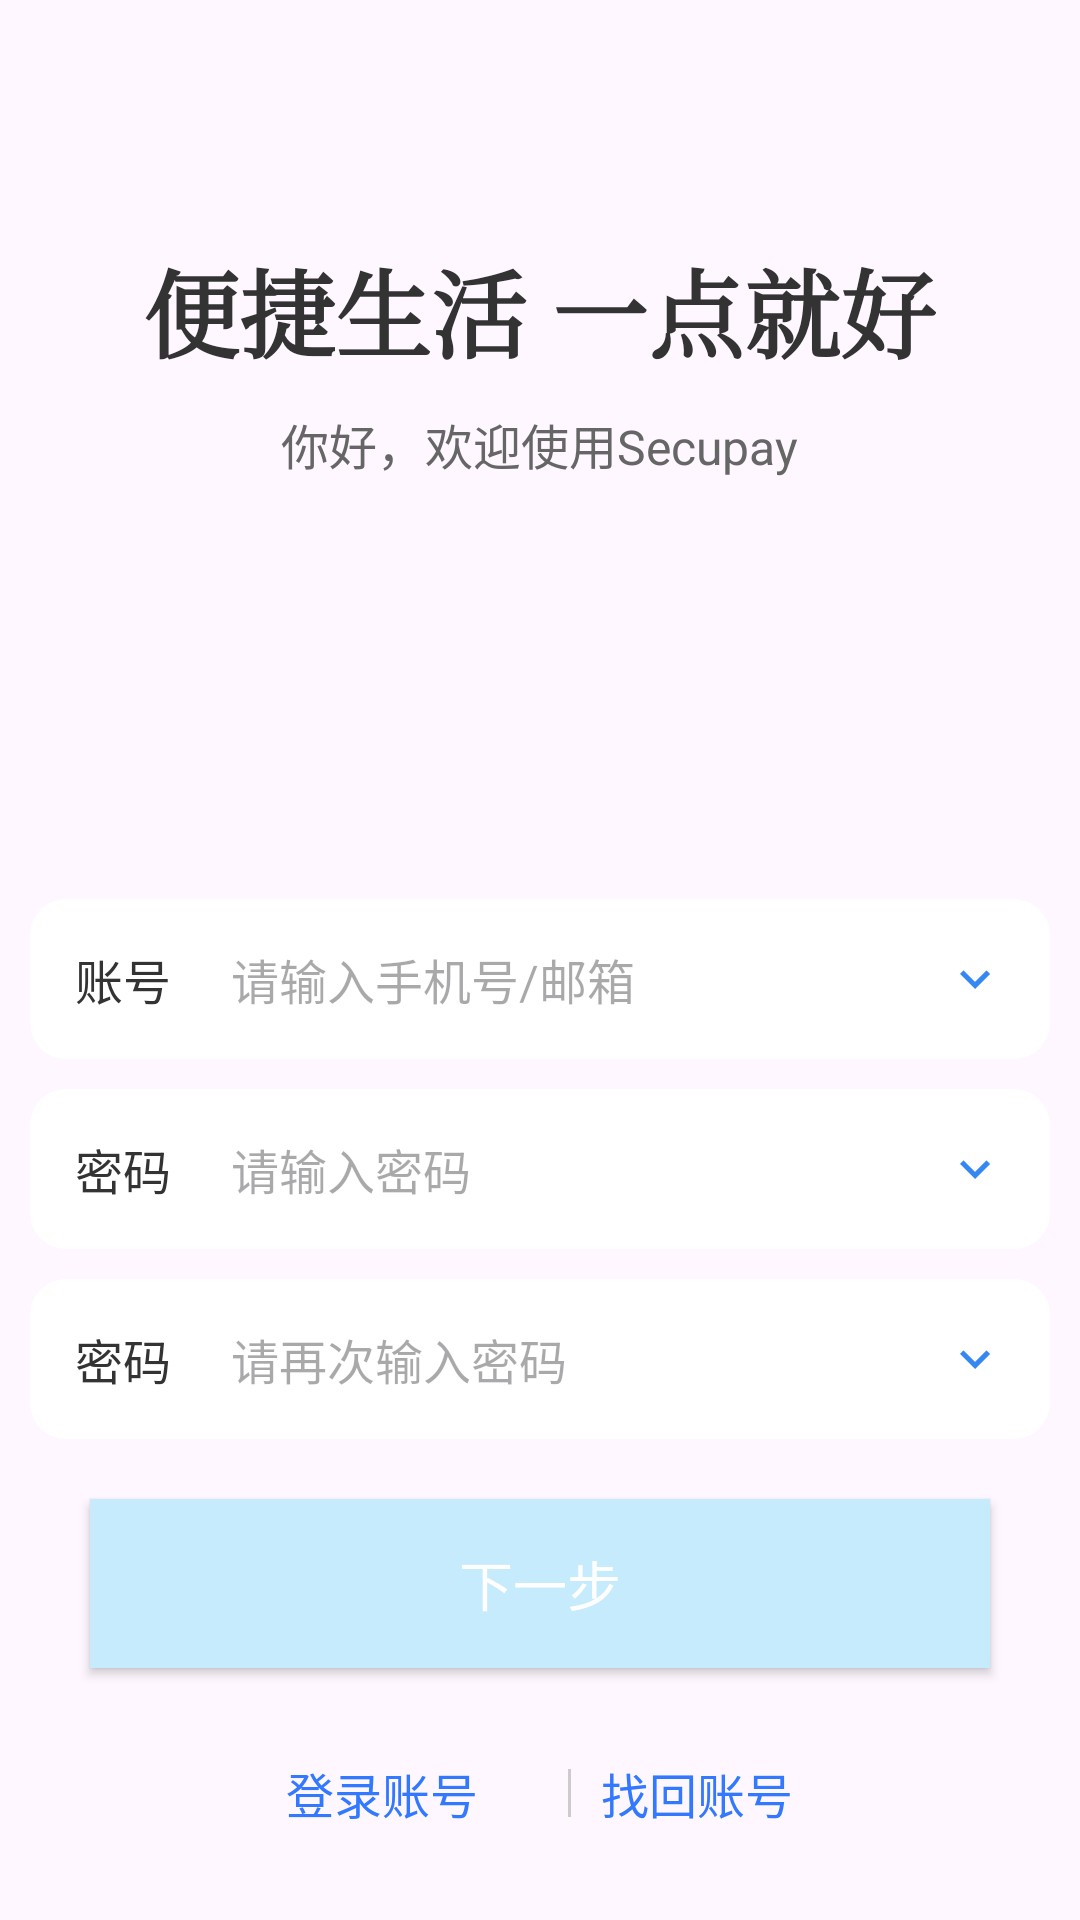

Point at icon controls on the screen. Image size 1080w x 1920h, points as [x,y].
down arrow: [975,979], [975,1169], [975,1359]
